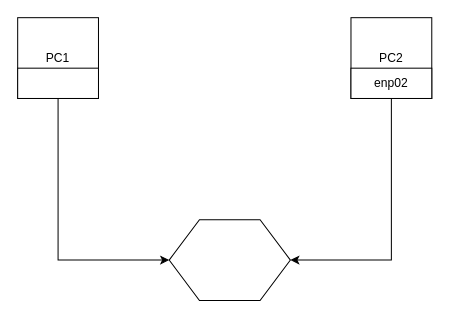
The diagram is 449 pixels wide and 318 high, and some of its shapes have lost their labels. The shapes that lost their labels are listed below. From the top down, each one's centre as x and y in pixels, then its label:
At (x=57, y=82): "enp01".
At (x=229, y=259): "SWITCH".
